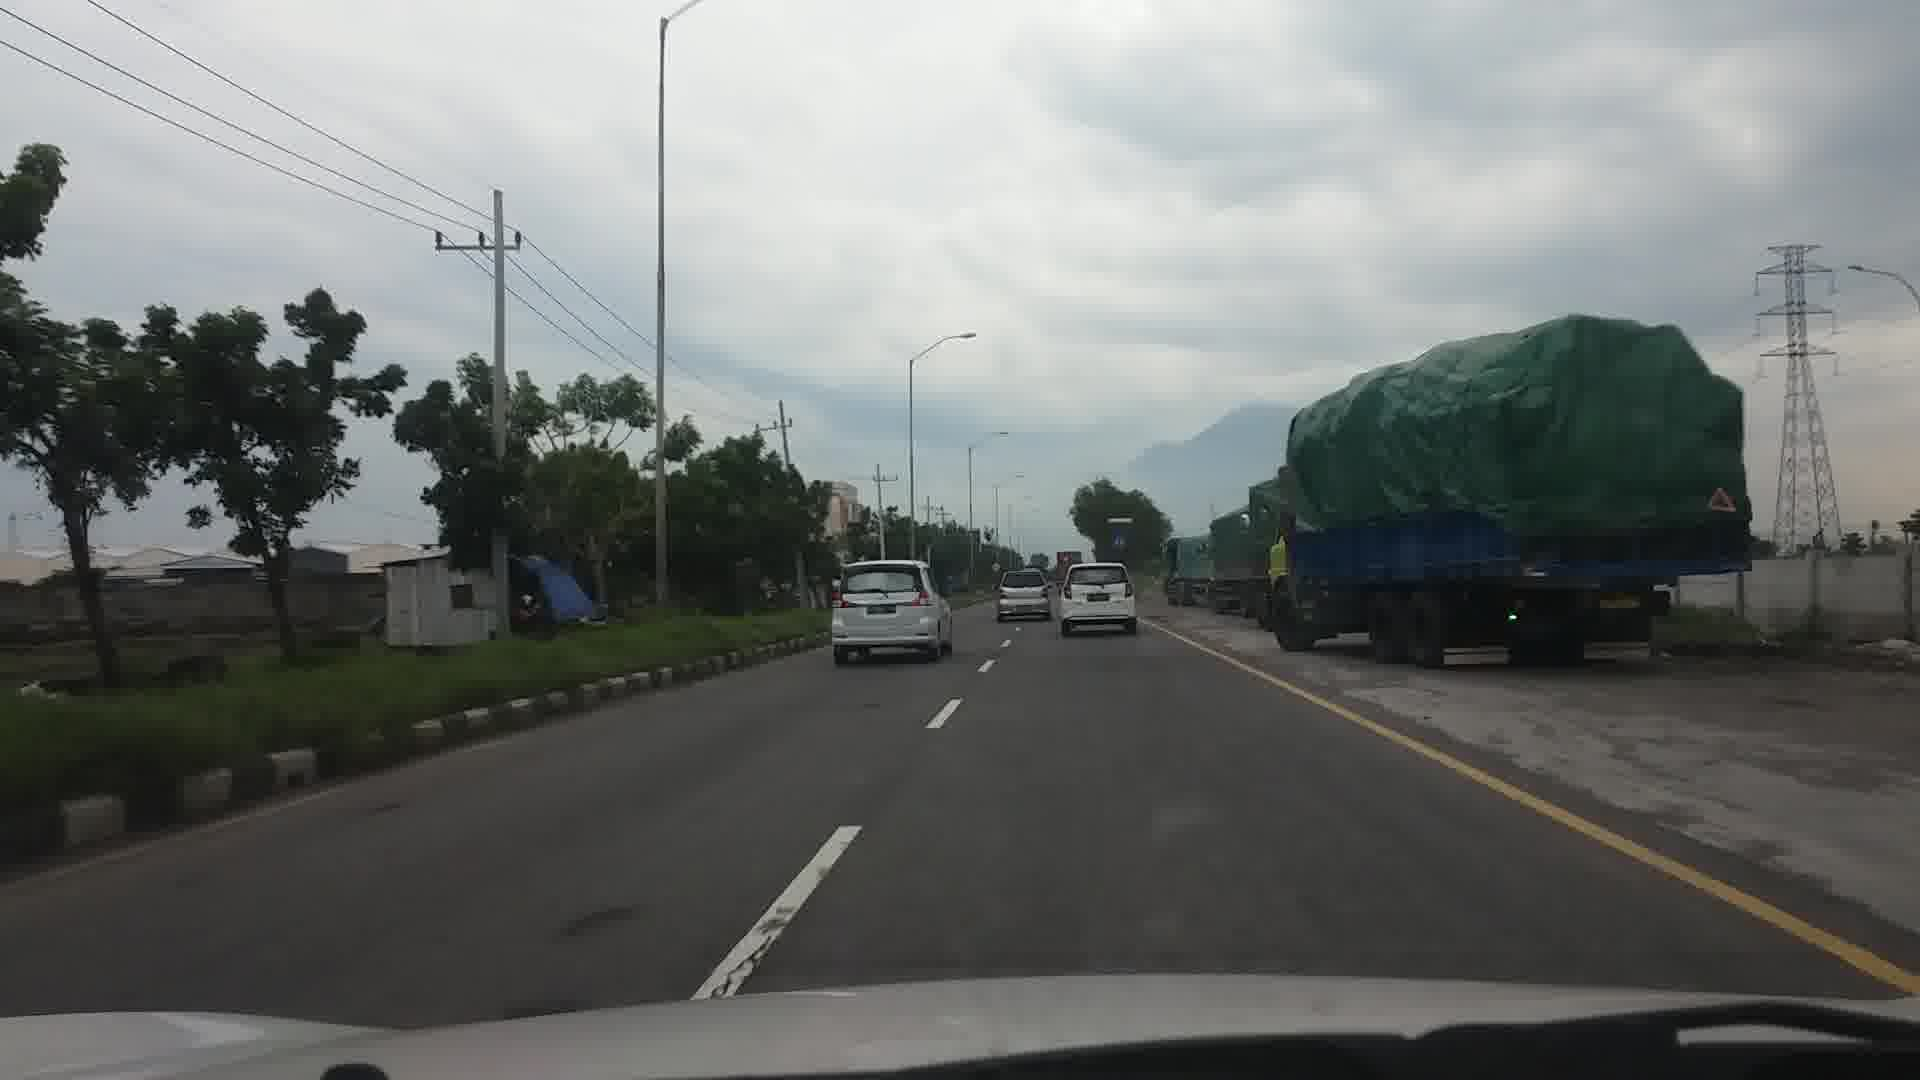plate_positive: (866, 605, 895, 615), (1087, 593, 1109, 603)
